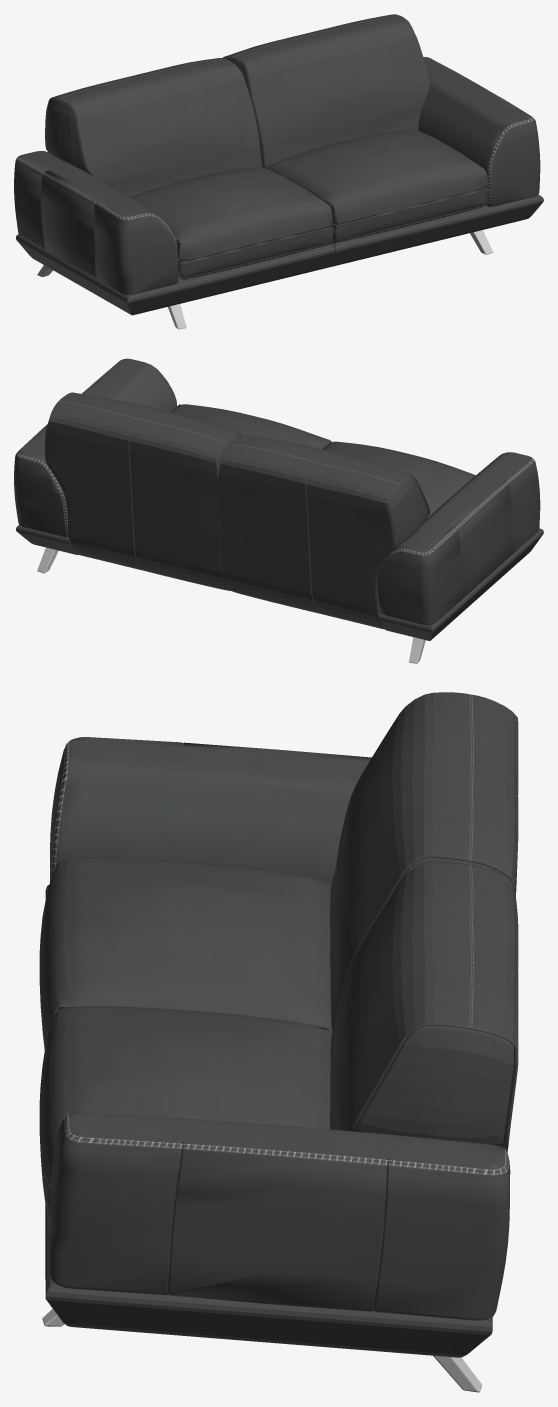
File: abo-b07hpmf4px.c7d195d31c.glb
The picture shows the model from 3 angles, top to bottom: view 1: azimuth 30°, elevation 25°; view 2: azimuth 150°, elevation 25°; view 3: azimuth 270°, elevation 25°; orthographic projection. The views are drawn at different scales.
Parts seen in each view (by area): view 1: RootNode; view 2: RootNode; view 3: RootNode.
Part boxes in pixels (x1,y1,x2,y2): RootNode: (14, 14, 543, 329); RootNode: (14, 358, 543, 663); RootNode: (39, 692, 518, 1392).
Bounding box in the file's own units: 1.88 × 0.7608 × 0.9289.
1 material, 1 textured.
